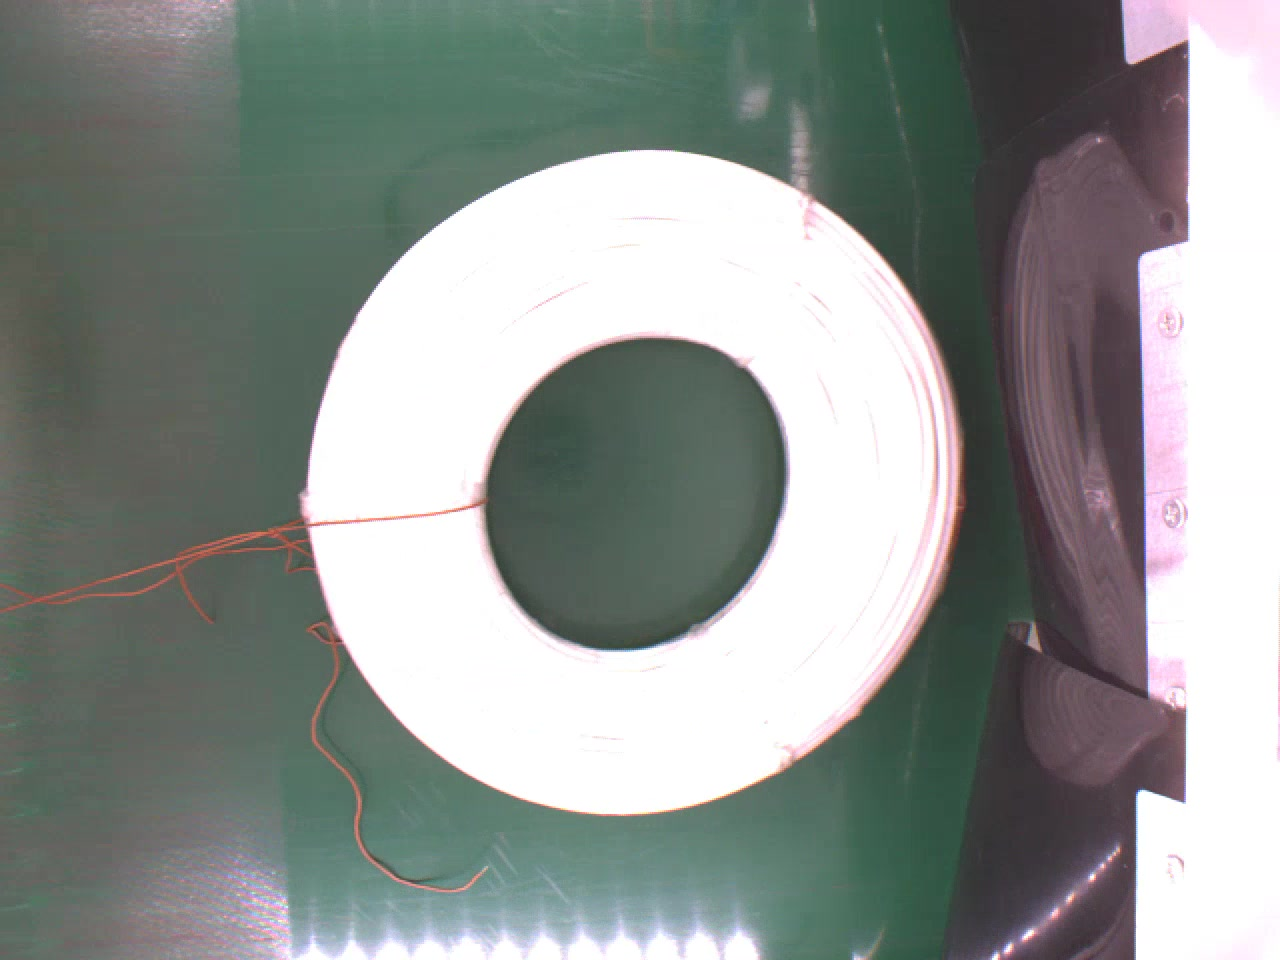white: (300, 138, 976, 820)
